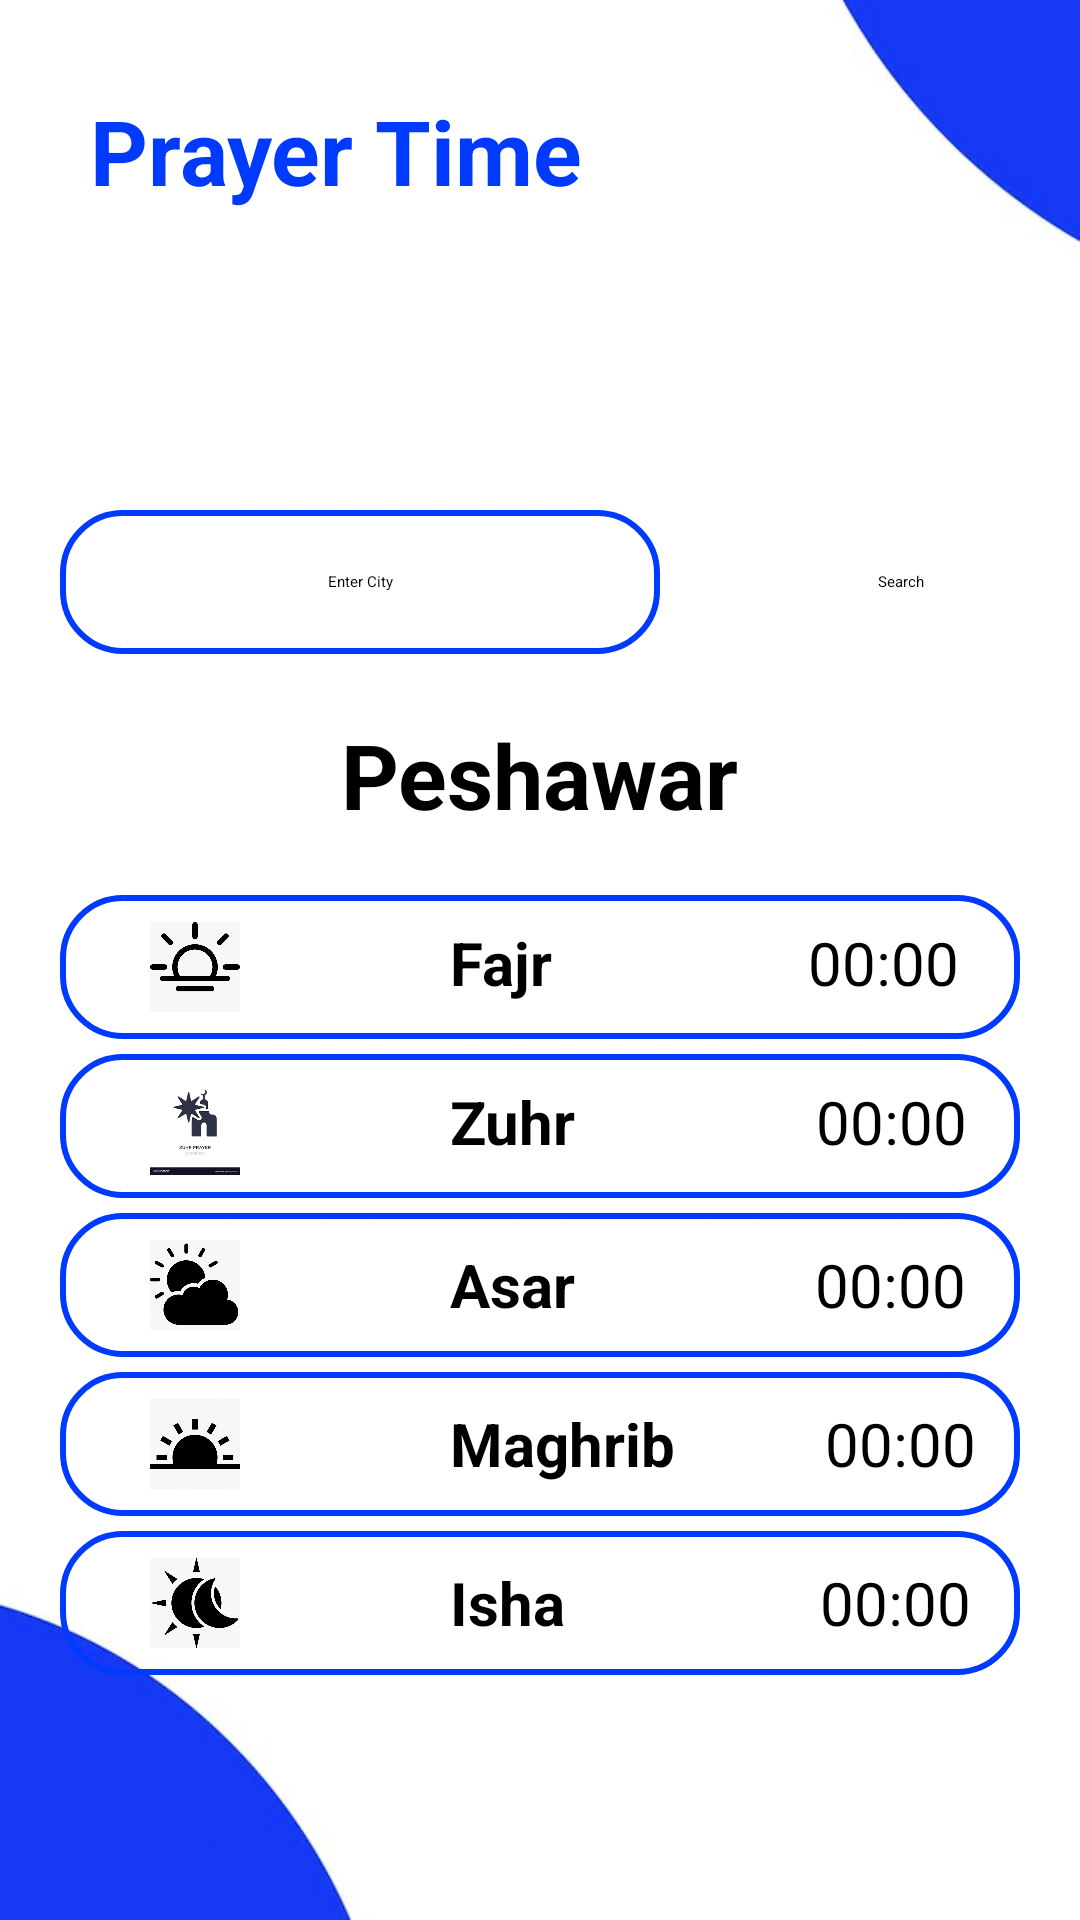

Locate icon controls on the screen. Image size 1080*1920, boxes as (x1,y1,x2,y2).
asr: (150,1243,238,1325)
